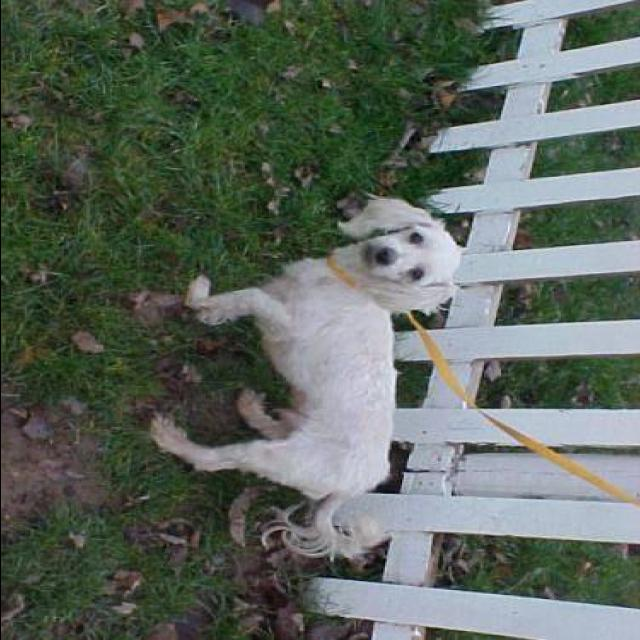dog: (160, 192, 476, 548)
